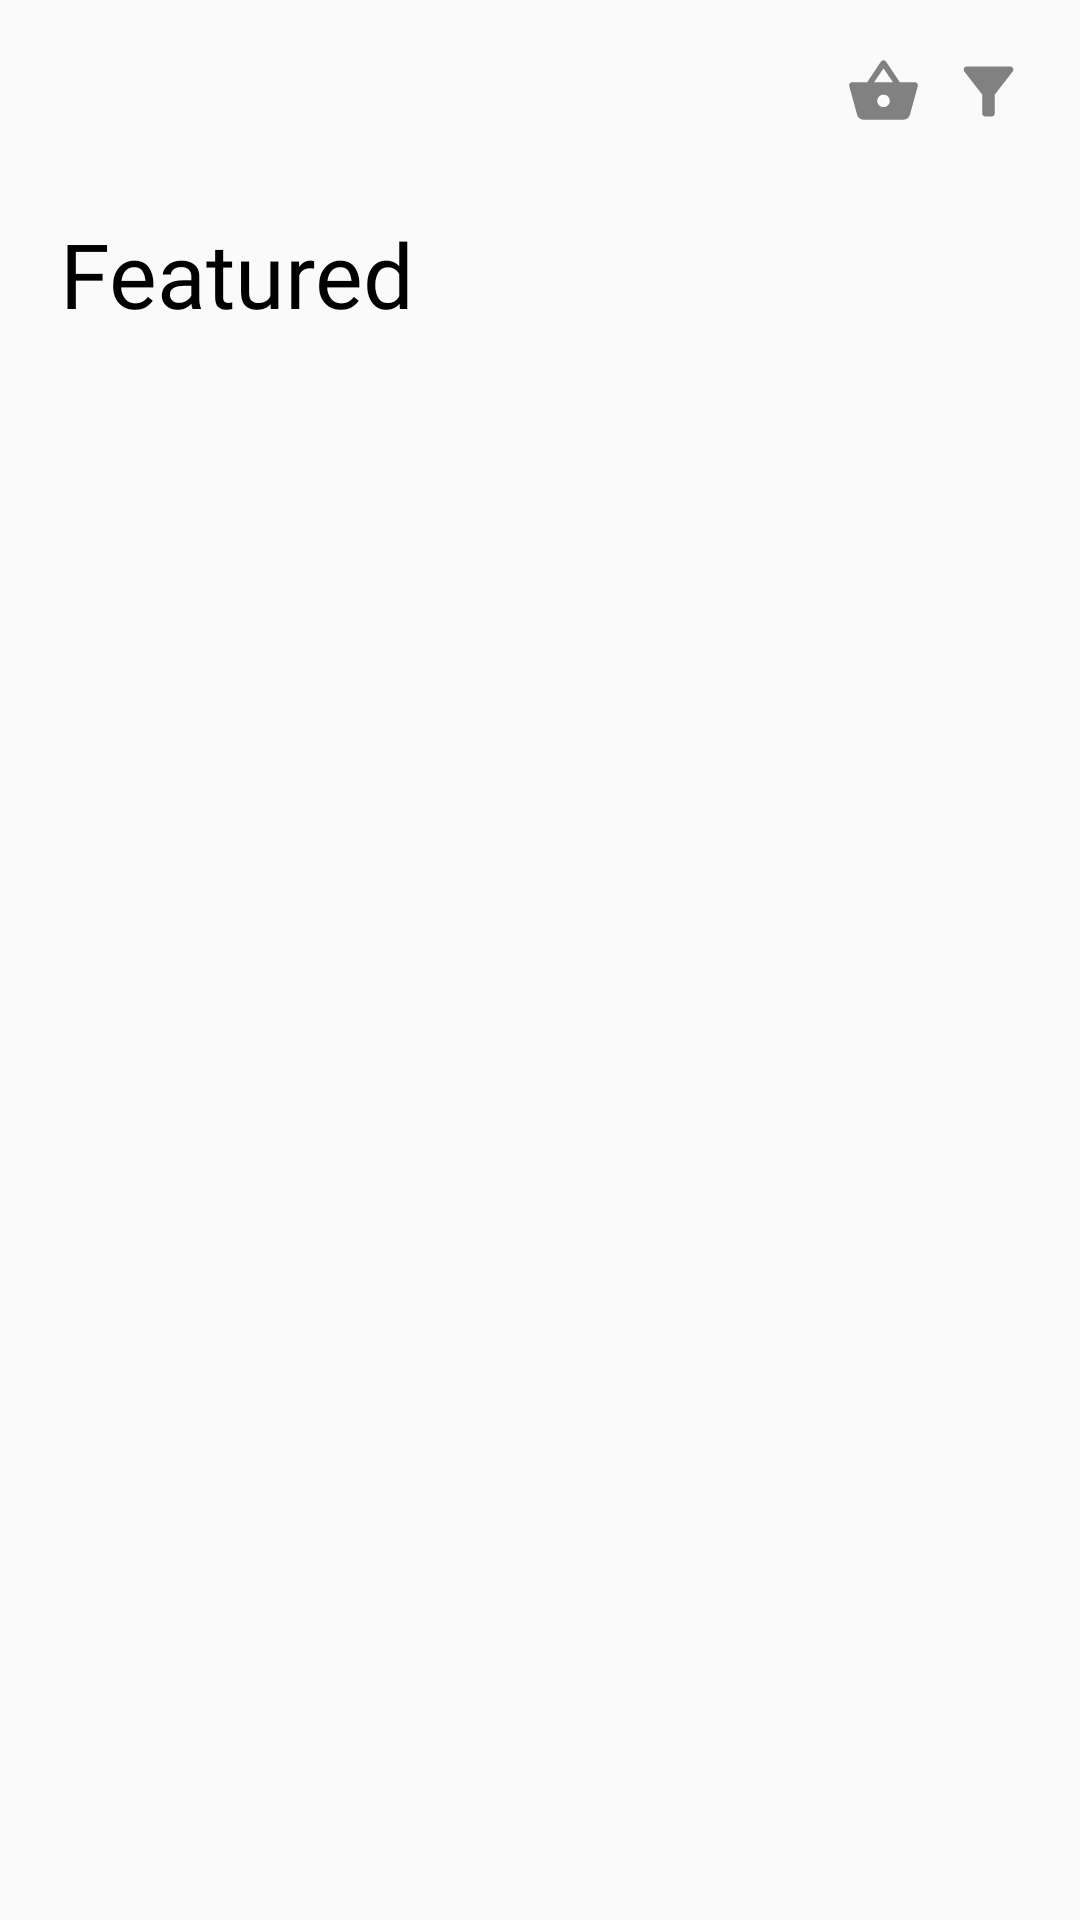

Where to tap for icons on this 1080 x 1920 app screen, as (x,y):
filter: (988,91)
shopping basket: (883,90)
